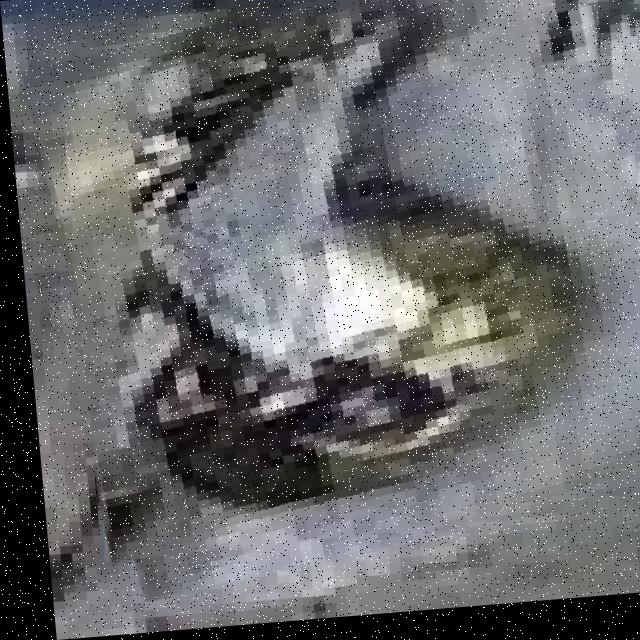litter: (57, 5, 638, 539)
